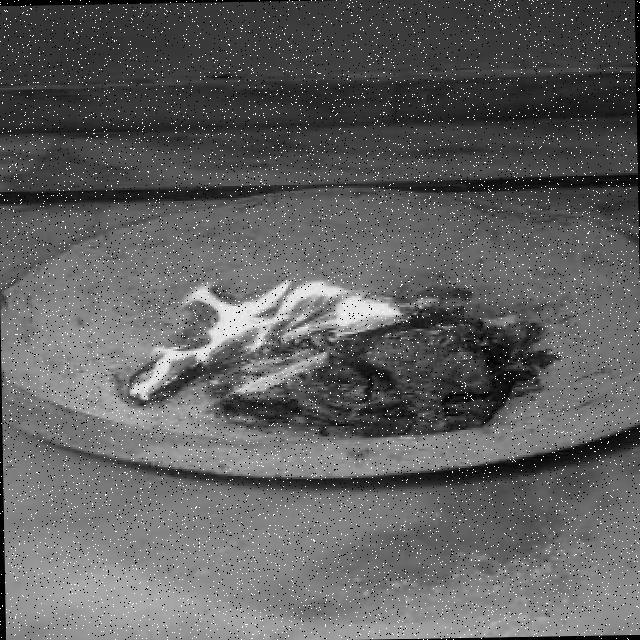Fire: (110, 267, 404, 414)
